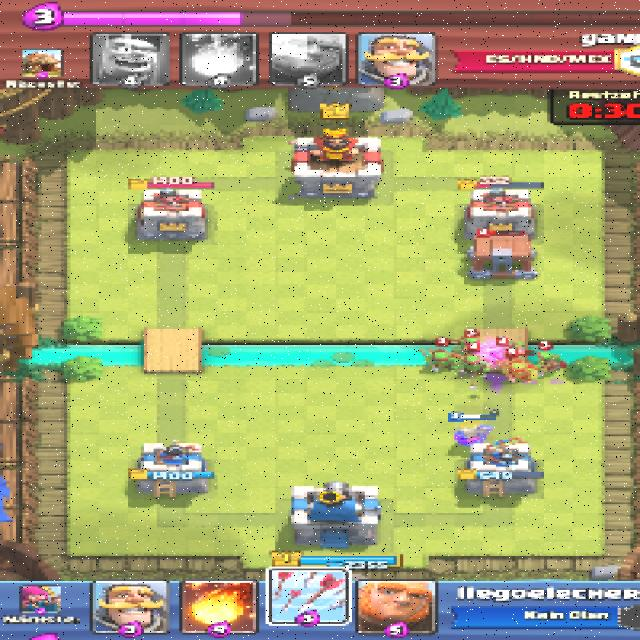Enemy-SpearGoblin: (418, 352, 460, 373), (452, 355, 491, 377), (502, 363, 541, 384), (489, 340, 524, 360), (538, 350, 566, 373), (455, 337, 480, 352)
Player-GoblinCage: (463, 234, 539, 280)
Player-Musketeer: (456, 424, 492, 444)
